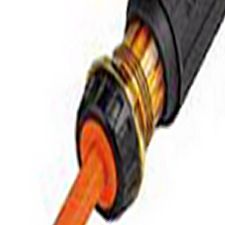Screwdriver: (48, 1, 225, 225)
